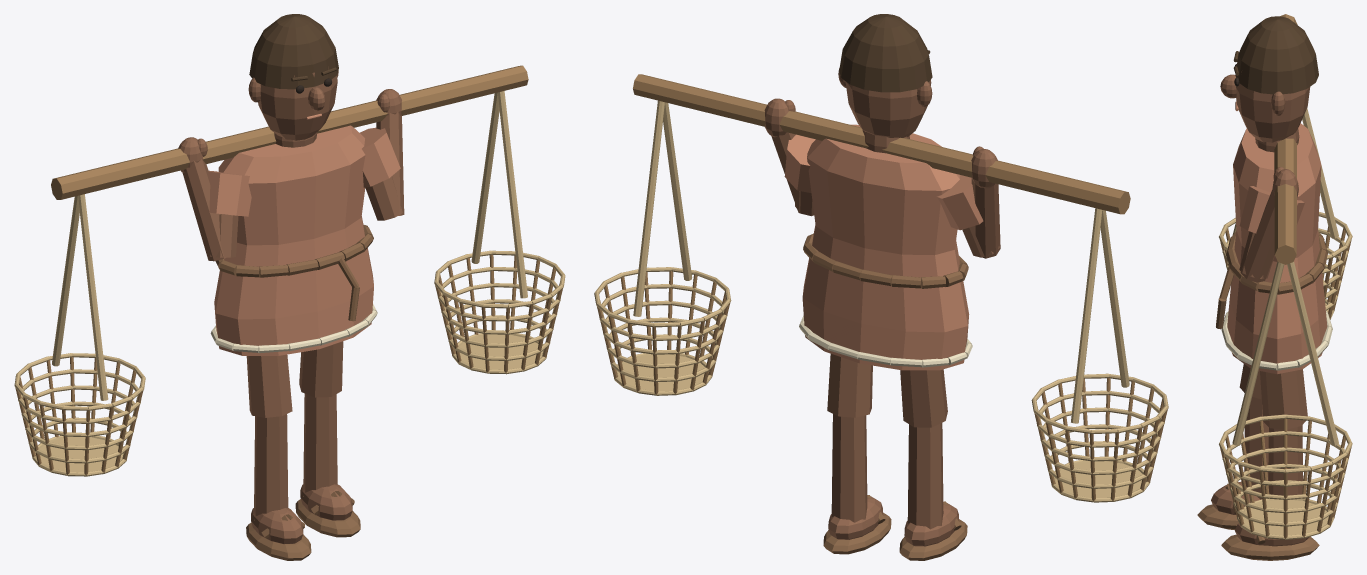
3 renders of one model, left to right at view 1: azimuth 30°, elevation 25°; view 2: azimuth 150°, elevation 25°; view 3: azimuth 270°, elevation 25°, orthographic. The views are drawn at different scales.
Parts seen in each view (by area): view 1: BA-0087 Market porter batched; view 2: BA-0087 Market porter batched; view 3: BA-0087 Market porter batched.
Boxes of the visible parts, <box> form: BA-0087 Market porter batched: <box>14,14,565,560</box>; BA-0087 Market porter batched: <box>594,14,1168,560</box>; BA-0087 Market porter batched: <box>1197,14,1352,560</box>.
Size of the model in its own units: 1.87 by 1.72 by 0.466.
